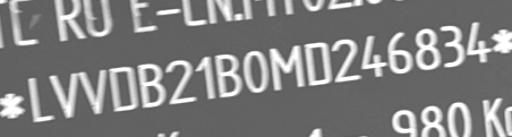letter: (268, 46, 306, 91), (48, 71, 80, 118), (331, 38, 363, 83), (166, 59, 196, 104), (137, 63, 167, 108), (109, 67, 139, 112), (79, 68, 107, 114), (27, 76, 55, 122), (464, 21, 492, 66), (304, 41, 332, 86), (214, 52, 242, 97), (438, 24, 466, 67), (242, 49, 270, 92), (360, 34, 386, 79), (414, 28, 442, 69), (387, 31, 413, 74), (194, 55, 216, 100)
